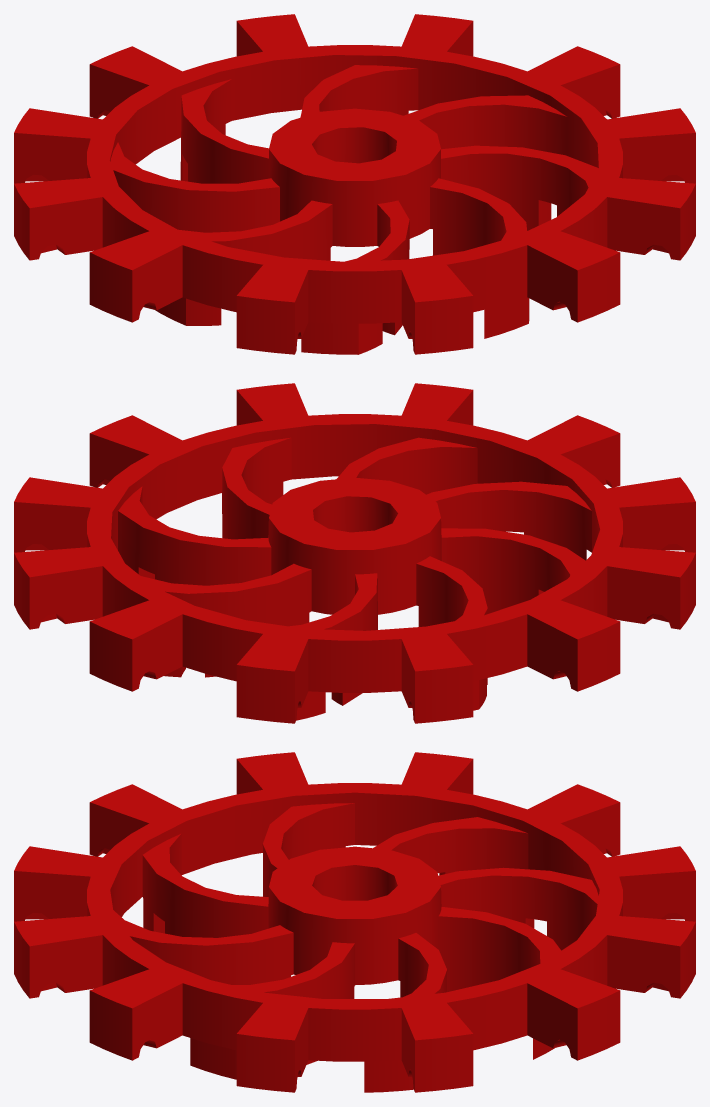
The model's file is Metric_Wheel_Base.obj.
3 renders of one model, top to bottom at view 1: azimuth 30°, elevation 25°; view 2: azimuth 150°, elevation 25°; view 3: azimuth 270°, elevation 25°, orthographic.
Visible parts, largest first — view 1: Solid1; view 2: Solid1; view 3: Solid1.
Boxes of the visible parts, <box> form: Solid1: <box>14,14,695,354</box>; Solid1: <box>14,383,695,723</box>; Solid1: <box>14,752,695,1092</box>.
Bounding box in the file's own units: 118 × 20.5 × 118.
